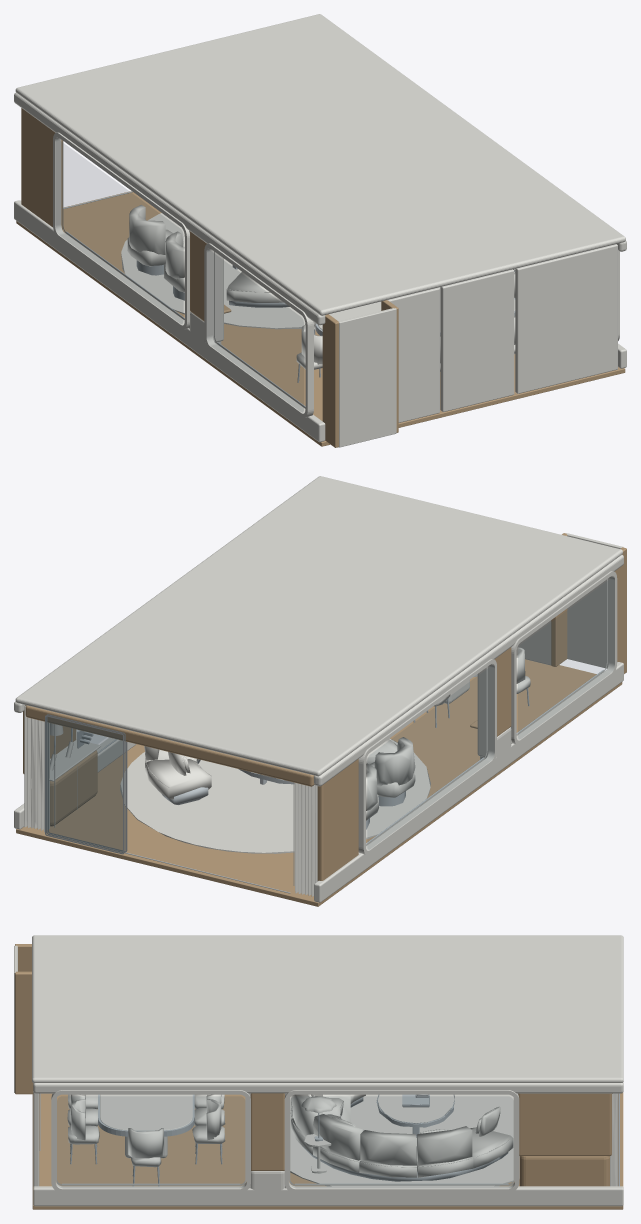
File: context.glb
3 views of the same model, one above another, from view 1: azimuth 30°, elevation 25°; view 2: azimuth 150°, elevation 25°; view 3: azimuth 270°, elevation 25° (orthographic). The views are drawn at different scales.
Visible parts, largest first — view 1: saloon | architecture, saloon | none, saloon | furniture; view 2: saloon | architecture, saloon | none, saloon | furniture; view 3: saloon | architecture, saloon | none, saloon | furniture.
Part boxes in pixels (x1,y1,x2,y2): saloon | architecture: (14,14,626,447); saloon | none: (56,139,303,411); saloon | furniture: (63,191,515,407); saloon | architecture: (14,476,626,906); saloon | none: (45,578,614,852); saloon | furniture: (45,670,603,893); saloon | architecture: (14,935,623,1209); saloon | none: (57,1097,512,1187); saloon | furniture: (62,1093,619,1186).
Size of the model in its own units: 5.36 by 2.22 by 9.38.
